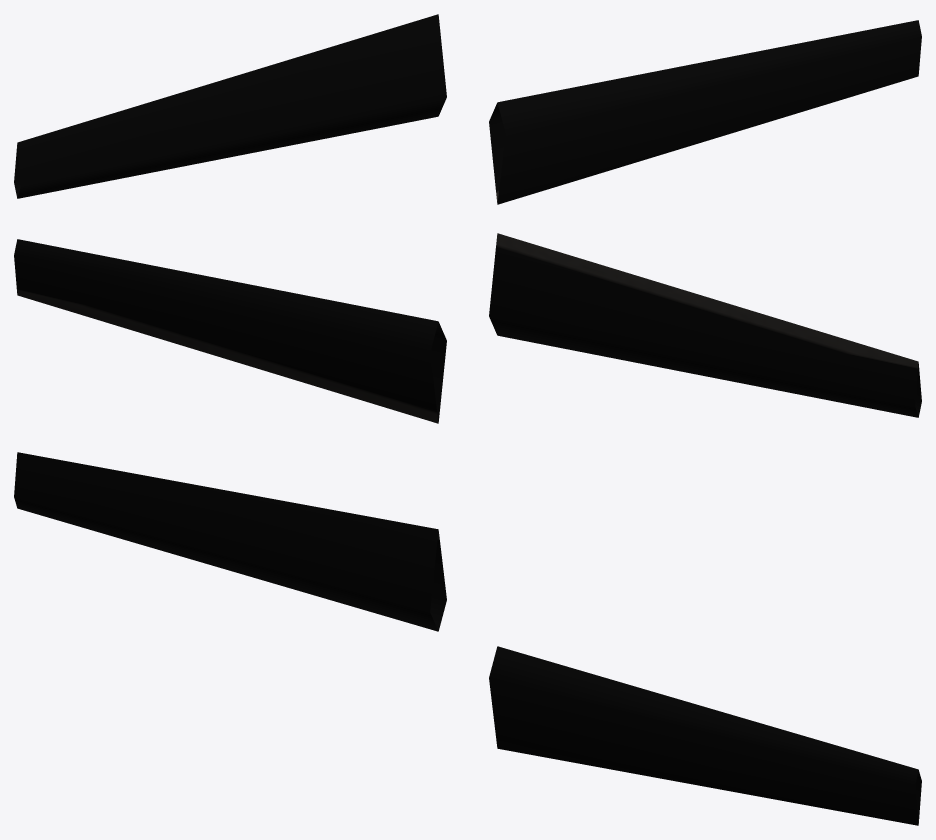
File: drone_prop_lod1.obj
The picture shows the model from 3 angles, top to bottom: view 1: azimuth 30°, elevation 25°; view 2: azimuth 150°, elevation 25°; view 3: azimuth 330°, elevation 25°; orthographic projection.
Size of the model in its own units: 0.92 by 0.2 by 0.0298.
